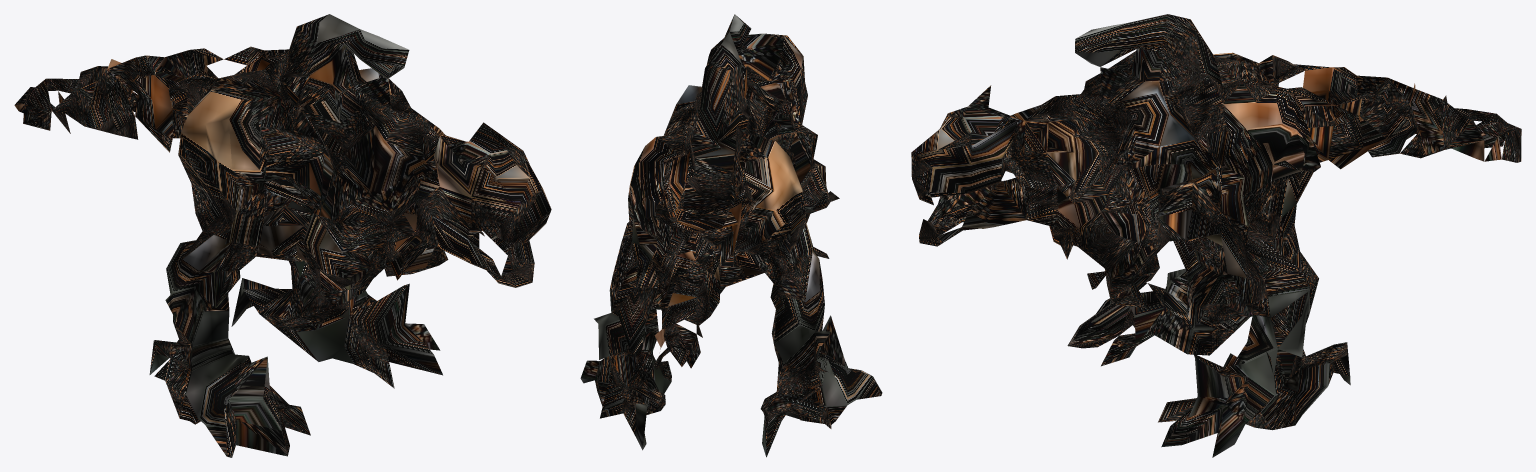
File: gso_transformers_age_of_extinction_stomp_and_chomp_grimlock_figure.glb
3 views of the same model, side by side, from view 1: azimuth 30°, elevation 25°; view 2: azimuth 150°, elevation 25°; view 3: azimuth 270°, elevation 25° (orthographic). The views are drawn at different scales.
Parts seen in each view (by area): view 1: z-up-to-y-up; view 2: z-up-to-y-up; view 3: z-up-to-y-up.
Boxes of the visible parts, box(x1,y1,x2,y2) form: z-up-to-y-up: box(14, 14, 551, 457); z-up-to-y-up: box(580, 14, 882, 457); z-up-to-y-up: box(911, 14, 1521, 457).
Bounding box in the file's own units: 0.2425 × 0.3238 × 0.4709.
Materials: 1 (1 with a texture image).
